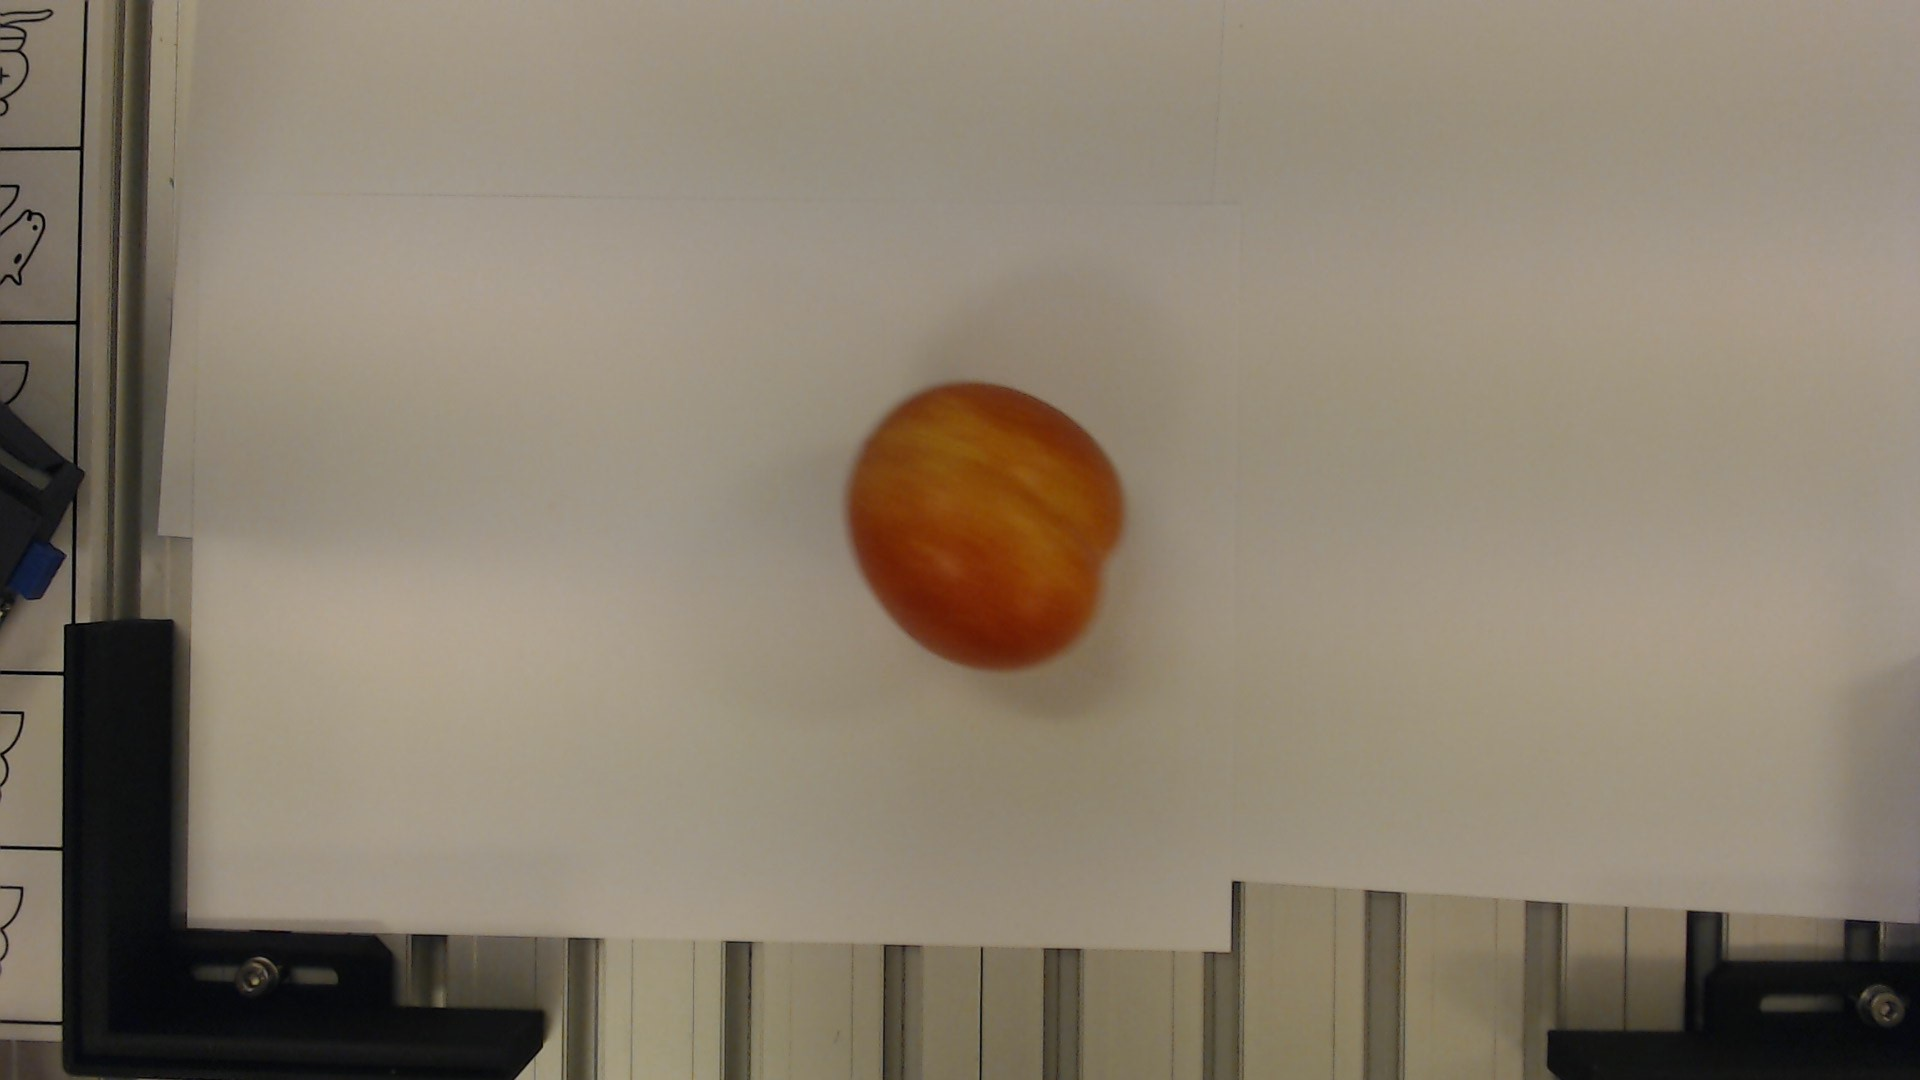Peach: (835, 385, 1137, 678)
